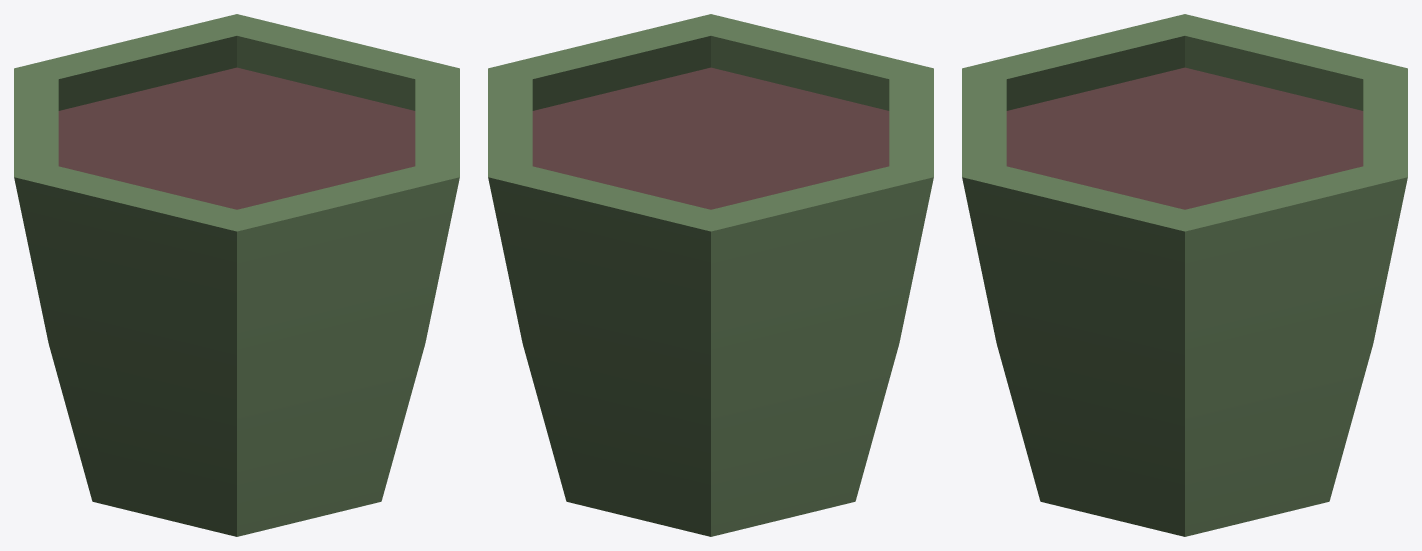
The model's file is Vase3.fbx.
3 views of the same model, side by side, from view 1: azimuth 30°, elevation 25°; view 2: azimuth 150°, elevation 25°; view 3: azimuth 270°, elevation 25° (orthographic).
Visible parts, largest first — view 1: Vase3; view 2: Vase3; view 3: Vase3.
Part boxes in pixels (x1,y1,x2,y2): Vase3: [14, 14, 459, 536]; Vase3: [488, 14, 933, 536]; Vase3: [962, 14, 1407, 536].
Bounding box in the file's own units: 2.77 × 2.04 × 2.4.
